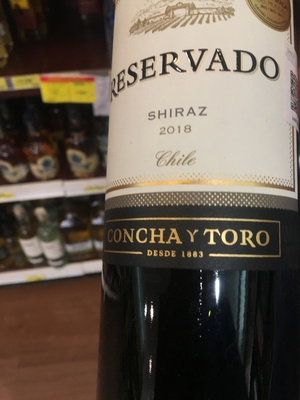reservado shiraz: (102, 4, 300, 388)
